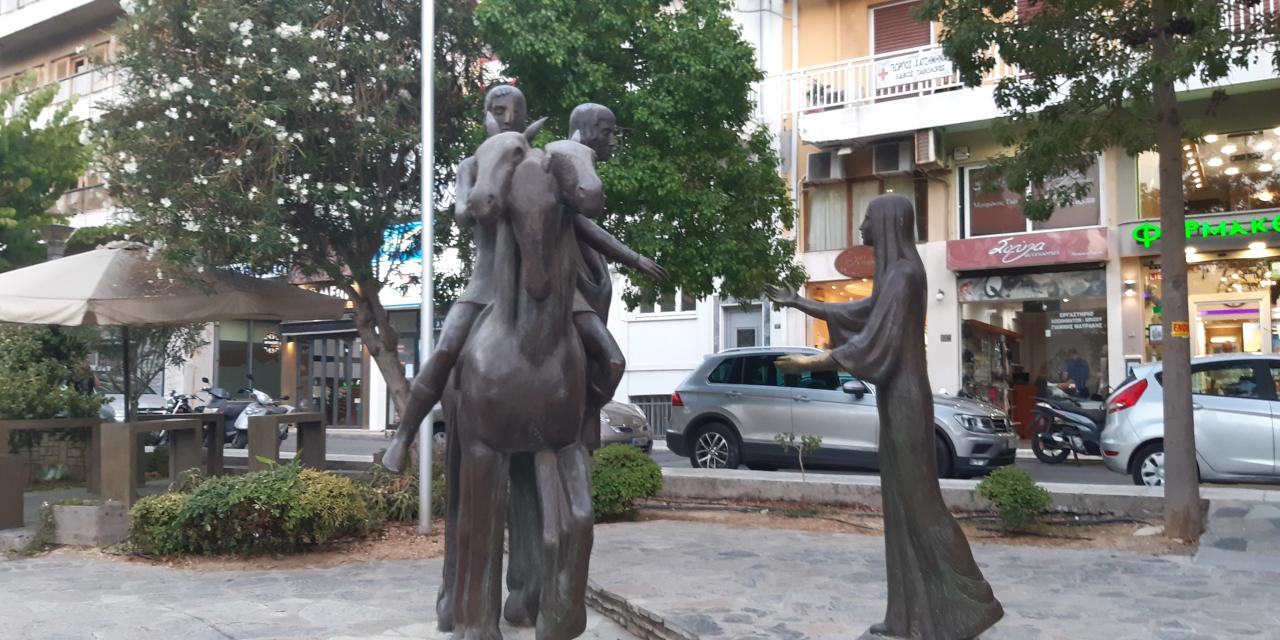Aretousa: (382, 83, 1007, 640)
